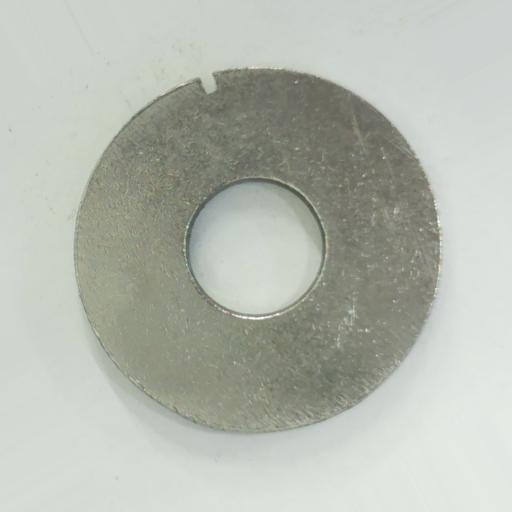burr: (197, 72, 219, 96)
